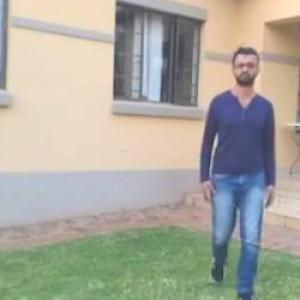follow: (194, 36, 278, 299)
